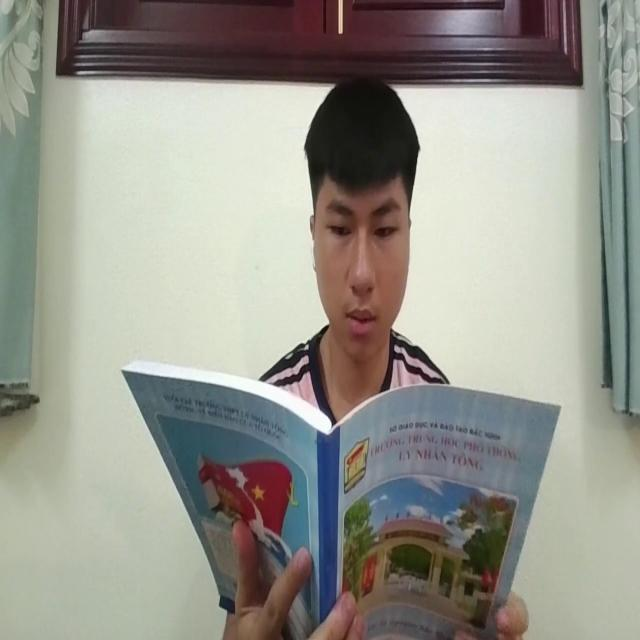book: (118, 344, 556, 640)
student: (251, 73, 449, 391)
